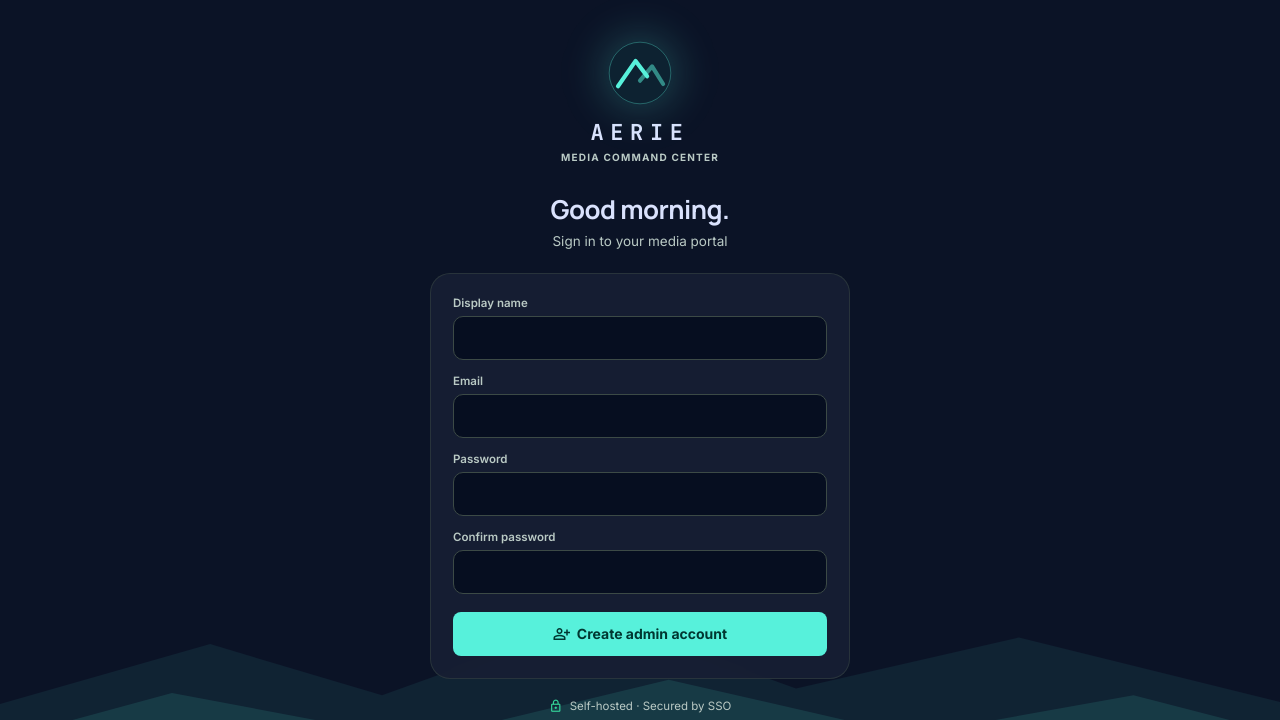
Login — setup mode (first-run admin) › surfaces the validation error returned by createInitialAdmin
The image size is (1280, 720).
In the field named "name": (640, 338) x1=453 y1=316 x2=827 y2=360, type "Ada"
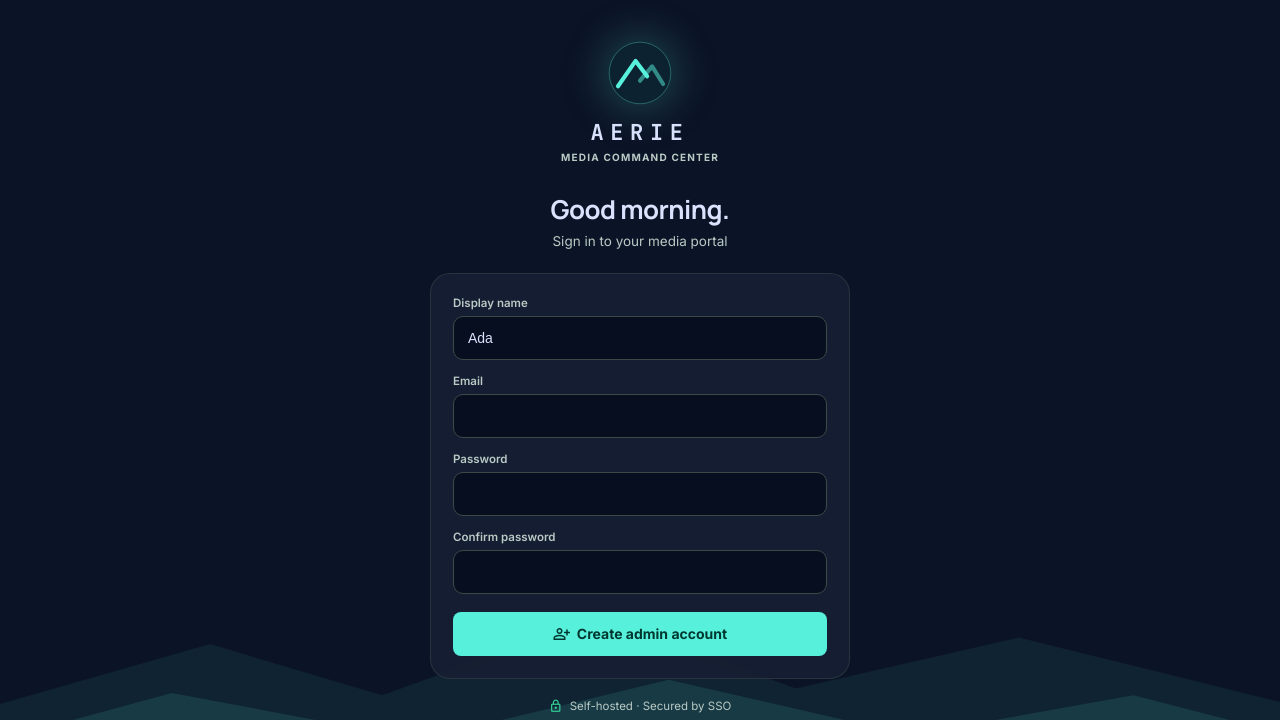
In the field named "email": (640, 416) x1=453 y1=394 x2=827 y2=438, type "ada@example.com"
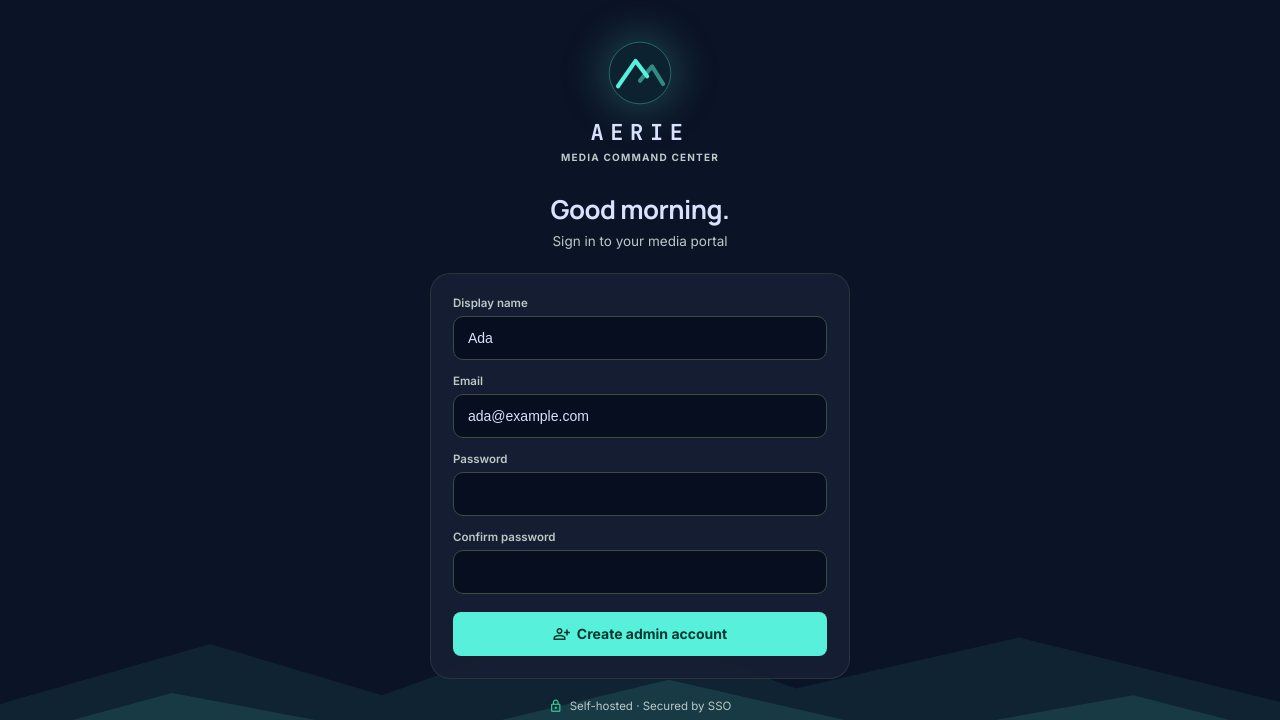
In the password field named "password": (640, 494) x1=453 y1=472 x2=827 y2=516, type "supersecret"
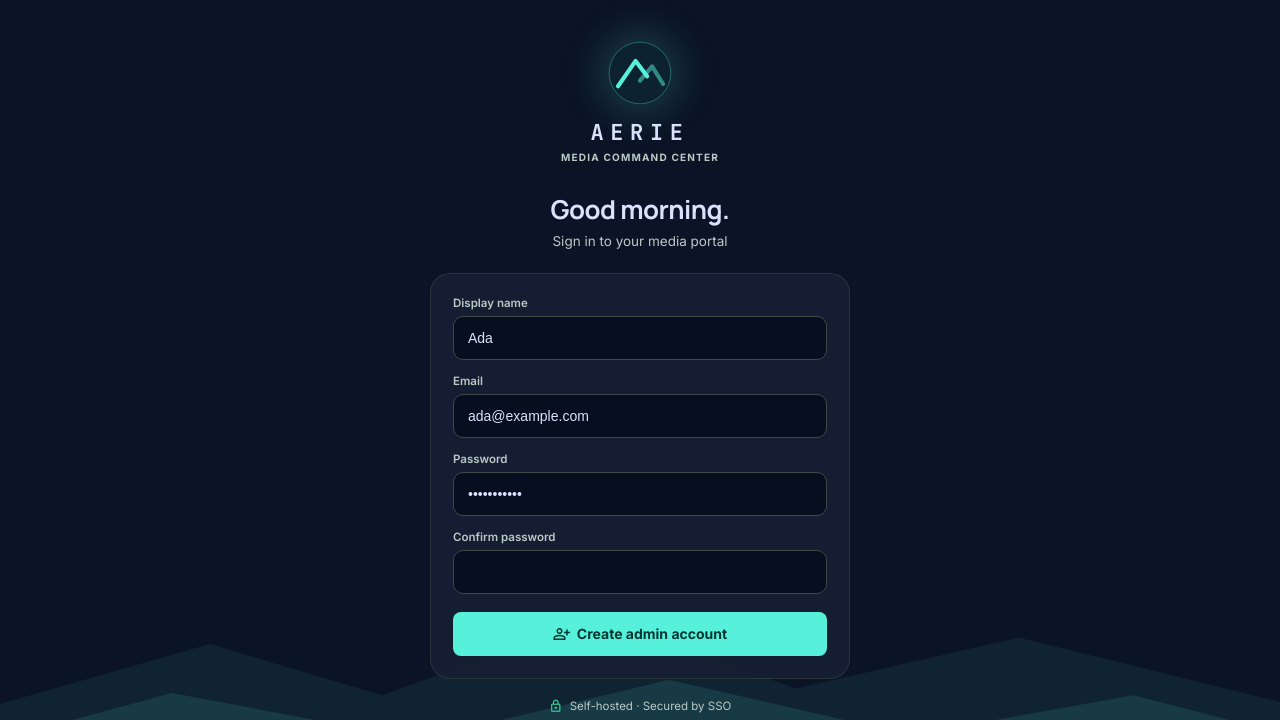
In the password field named "confirm": (640, 572) x1=453 y1=550 x2=827 y2=594, type "mismatch"
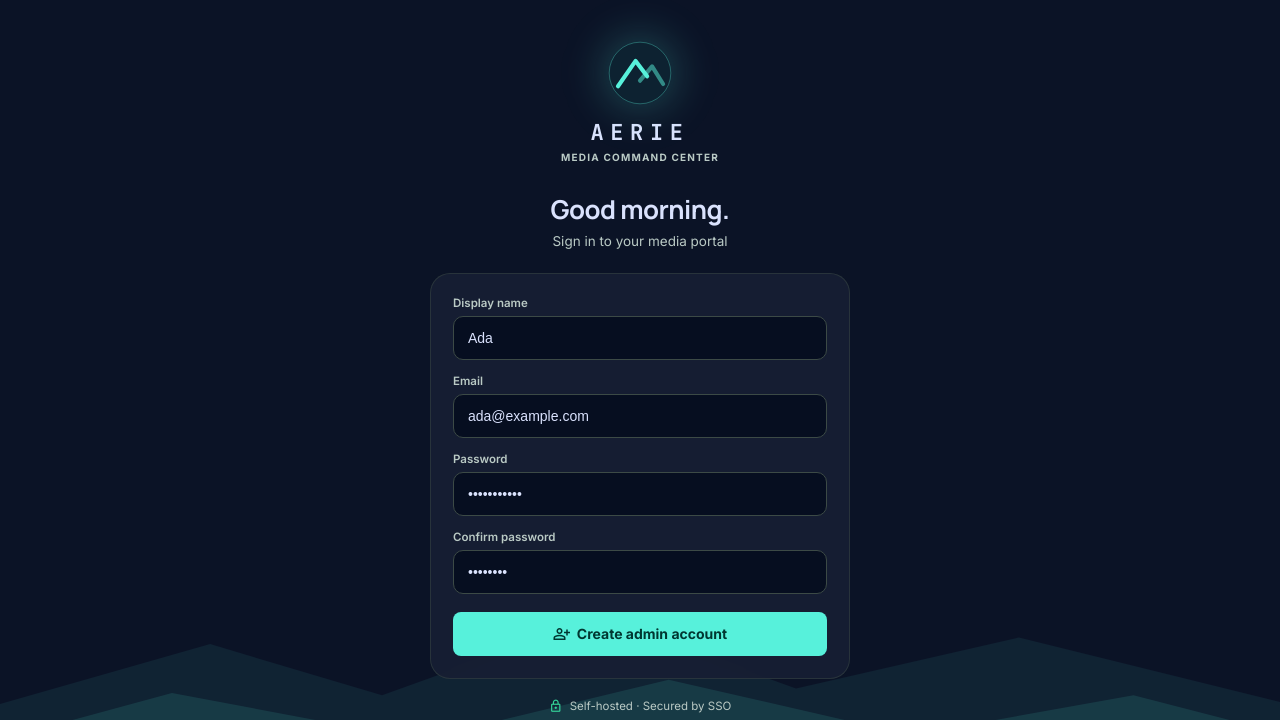
Click the button "Create admin account": (640, 634) x1=453 y1=612 x2=827 y2=656
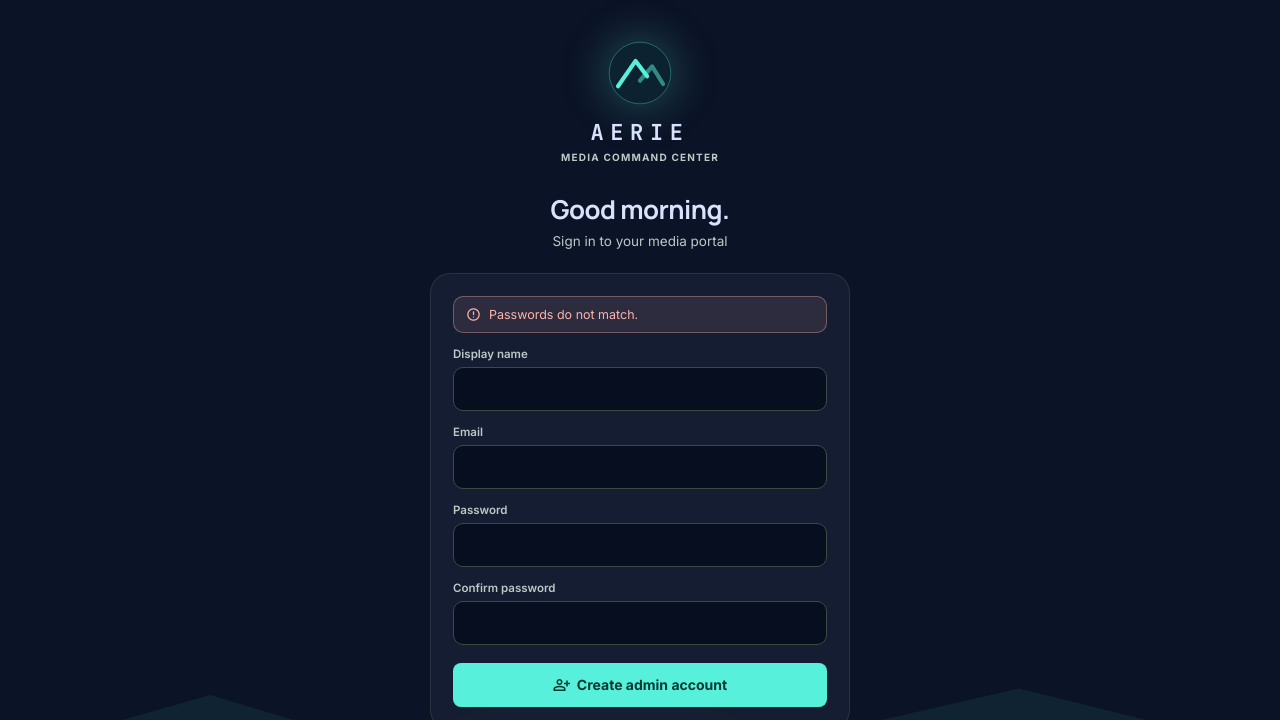
Check: the text "Passwords do not match." is shown, box x1=489 y1=307 x2=638 y2=322
